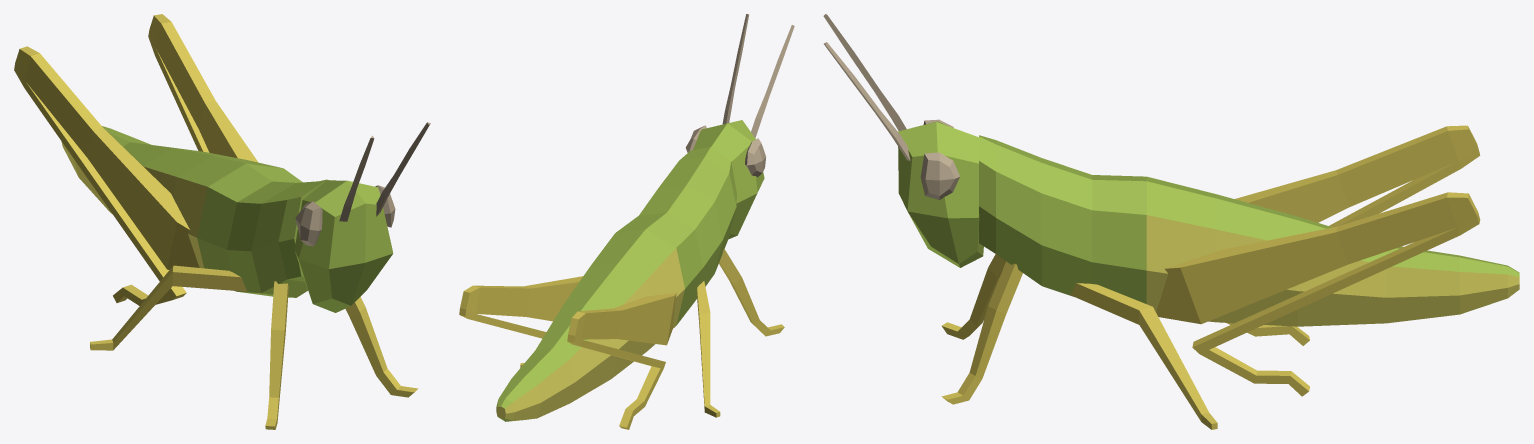
The model's file is Grasshopper.glb.
The picture shows the model from 3 angles, left to right: view 1: azimuth 30°, elevation 25°; view 2: azimuth 150°, elevation 25°; view 3: azimuth 270°, elevation 25°; orthographic projection. The views are drawn at different scales.
Visible parts, largest first — view 1: Geo_Grasshopper; view 2: Geo_Grasshopper; view 3: Geo_Grasshopper.
Boxes of the visible parts, left/top/right/bottom form: Geo_Grasshopper: left=14, top=14, right=430, bottom=429; Geo_Grasshopper: left=459, top=14, right=794, bottom=429; Geo_Grasshopper: left=823, top=14, right=1519, bottom=429.
Size of the model in its own units: 40.77 by 51.72 by 95.64.
Materials: 1 (1 with a texture image).
